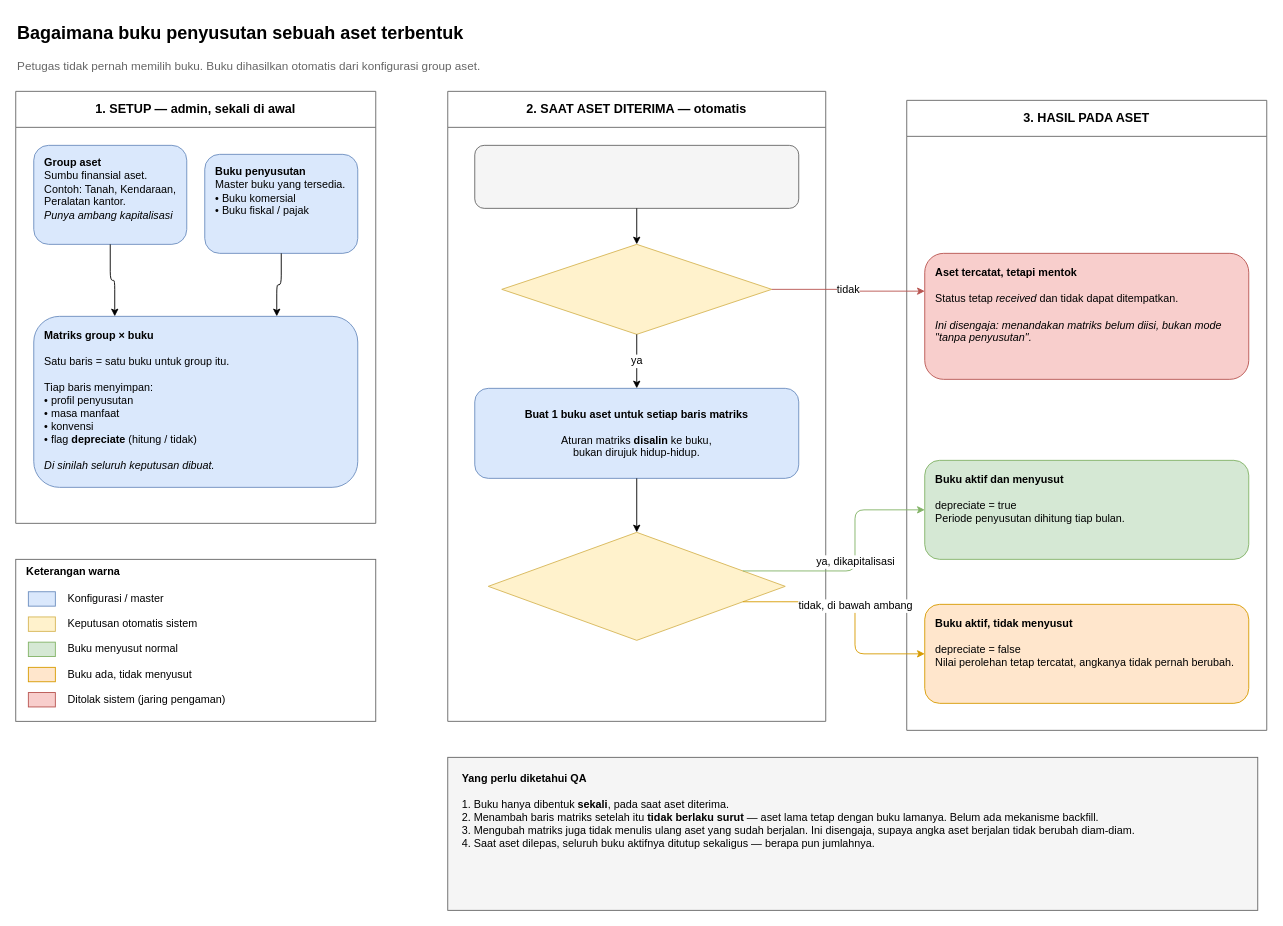
Some shapes in this 1283 by 926 pixel diagram are drawn without their labels. The shapes that lost their labels are listed below. From the top down, each one's centre as x and y in pixels, then its label:
At (x=636, y=176): "Petugas mengisi form aset (group, nilai perolehan, tanggal)".
At (x=636, y=288): "Group punya baris di matriks?".
At (x=636, y=585): "Nilai perolehan ≥ ambang kapitalisasi group?".
